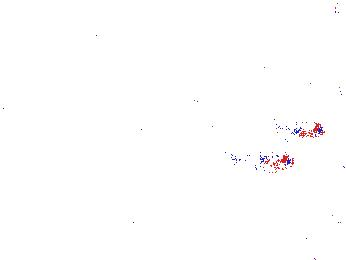glassfish: (129, 125, 180, 190), (123, 201, 176, 231)
red belly glassfish: (234, 150, 294, 174), (270, 122, 324, 142)
